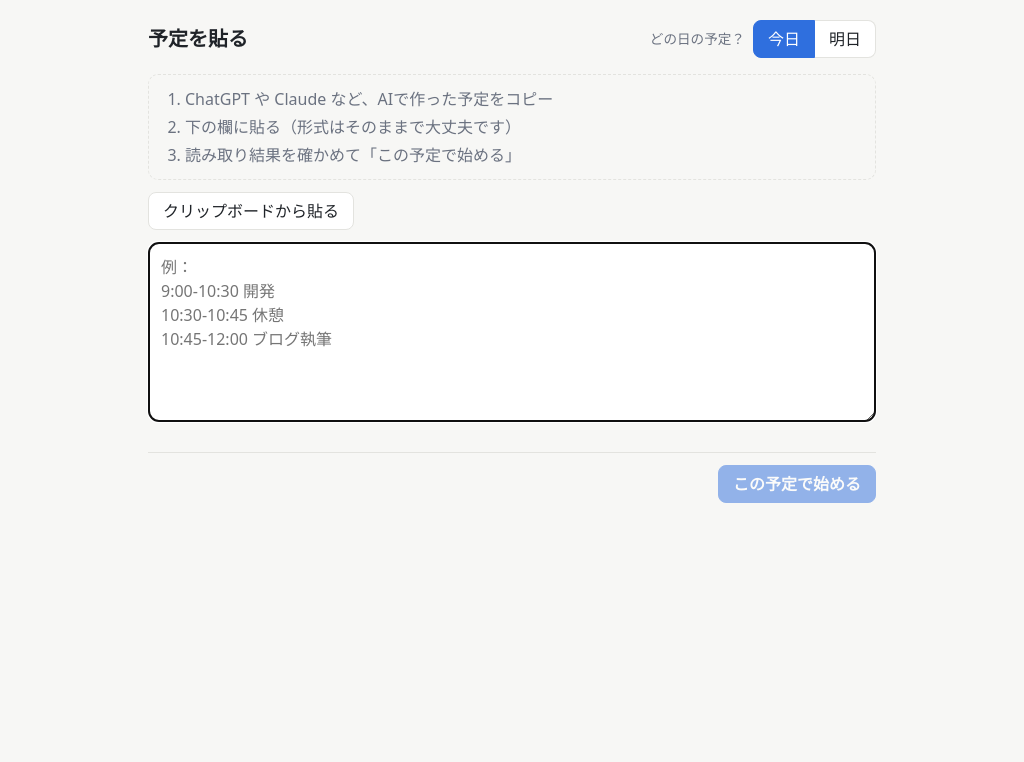
1日の流れ › 確定すると、次の予定と終了見込みが出る。予定はブラウザに保存される
The width and height of the screenshot is (1024, 762).
Type "時間 内容 9:00–10:30 開発①（1.5h） 10:30–10:45 休憩 10:45–12:15 開発②（1.5h） 12:15–13:15 ランニング（60分） 13:15–14:15 シャワー・昼食 14:15–15:45 Notion × Discord連携①（1.5h） 15:45–16:00 休憩 16:00–17:00 Notion × Discord連携②（1h） 17:0" into the text box named "予定のテキスト" at (512, 332), box left=148, top=242, right=876, bottom=422
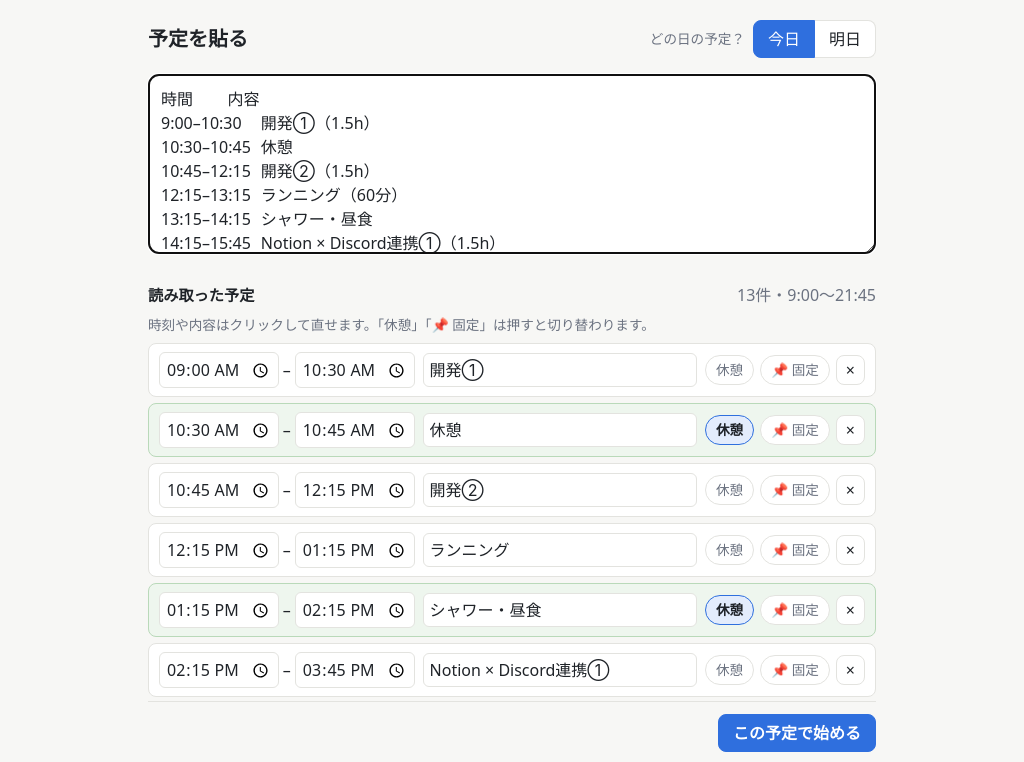
Click the button "この予定で始める" at (797, 733), box left=718, top=714, right=876, bottom=752
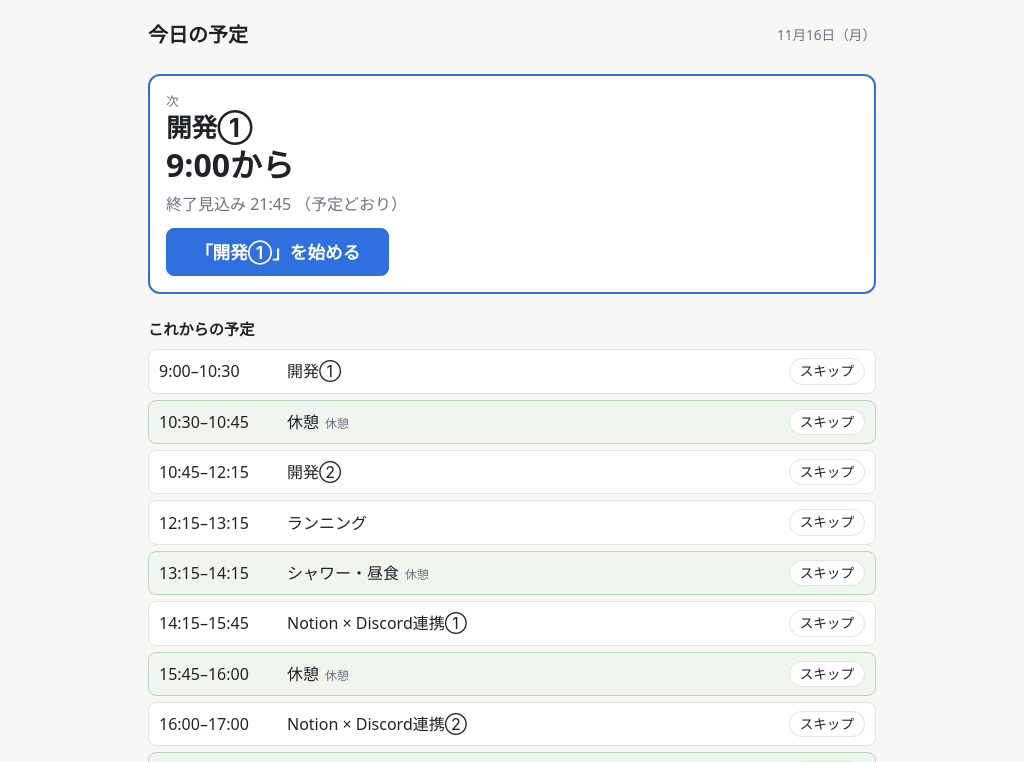
expect the heading "今日の予定" is shown: met, box left=148, top=20, right=248, bottom=50
expect the text "9:00から" is shown: met, box left=166, top=144, right=294, bottom=186
expect the text "終了見込み 21:45" is shown: met, box left=166, top=193, right=291, bottom=215
